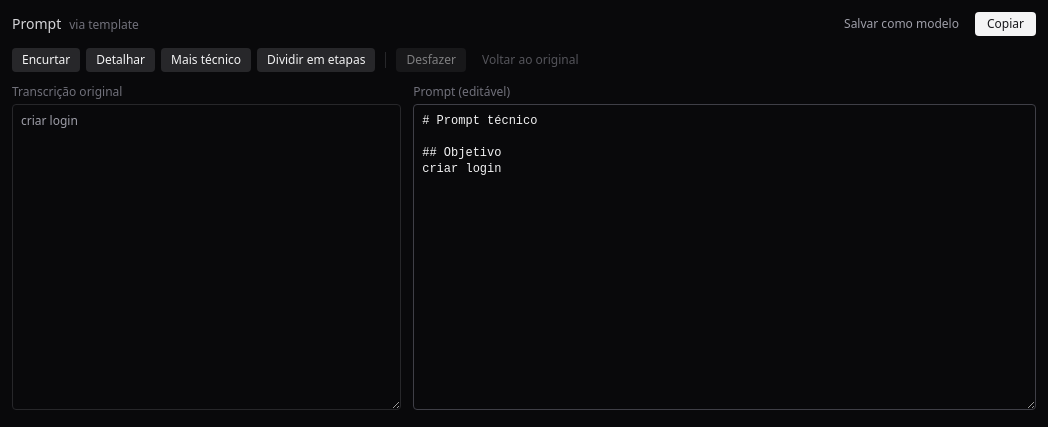
Test: PromptEditor › runs each refine action through the backend
Click the button "Encurtar".
click(46, 60)  # box [12, 48, 80, 72]
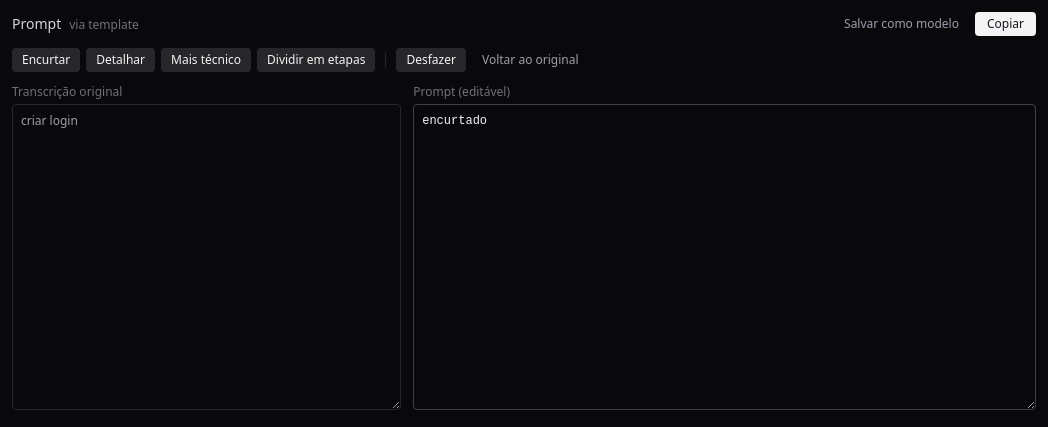
Result: the text box labelled "Prompt (editável)" holds "encurtado" at [413, 104, 1036, 410]
